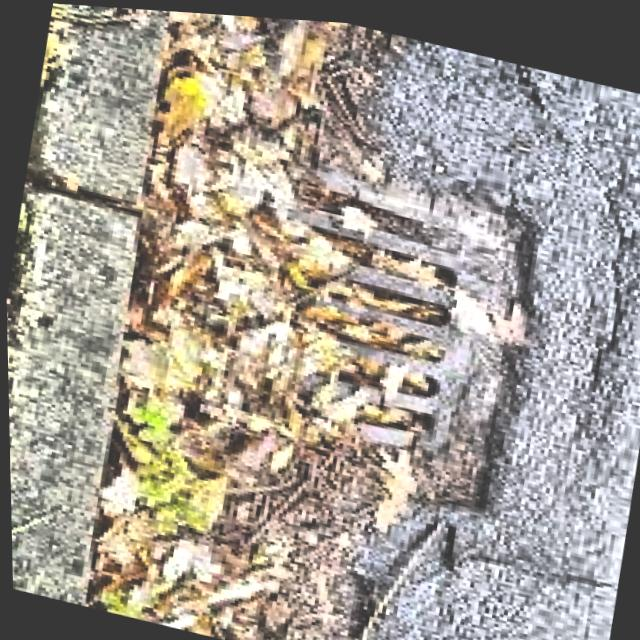clogged_drains: (167, 164, 492, 504)
